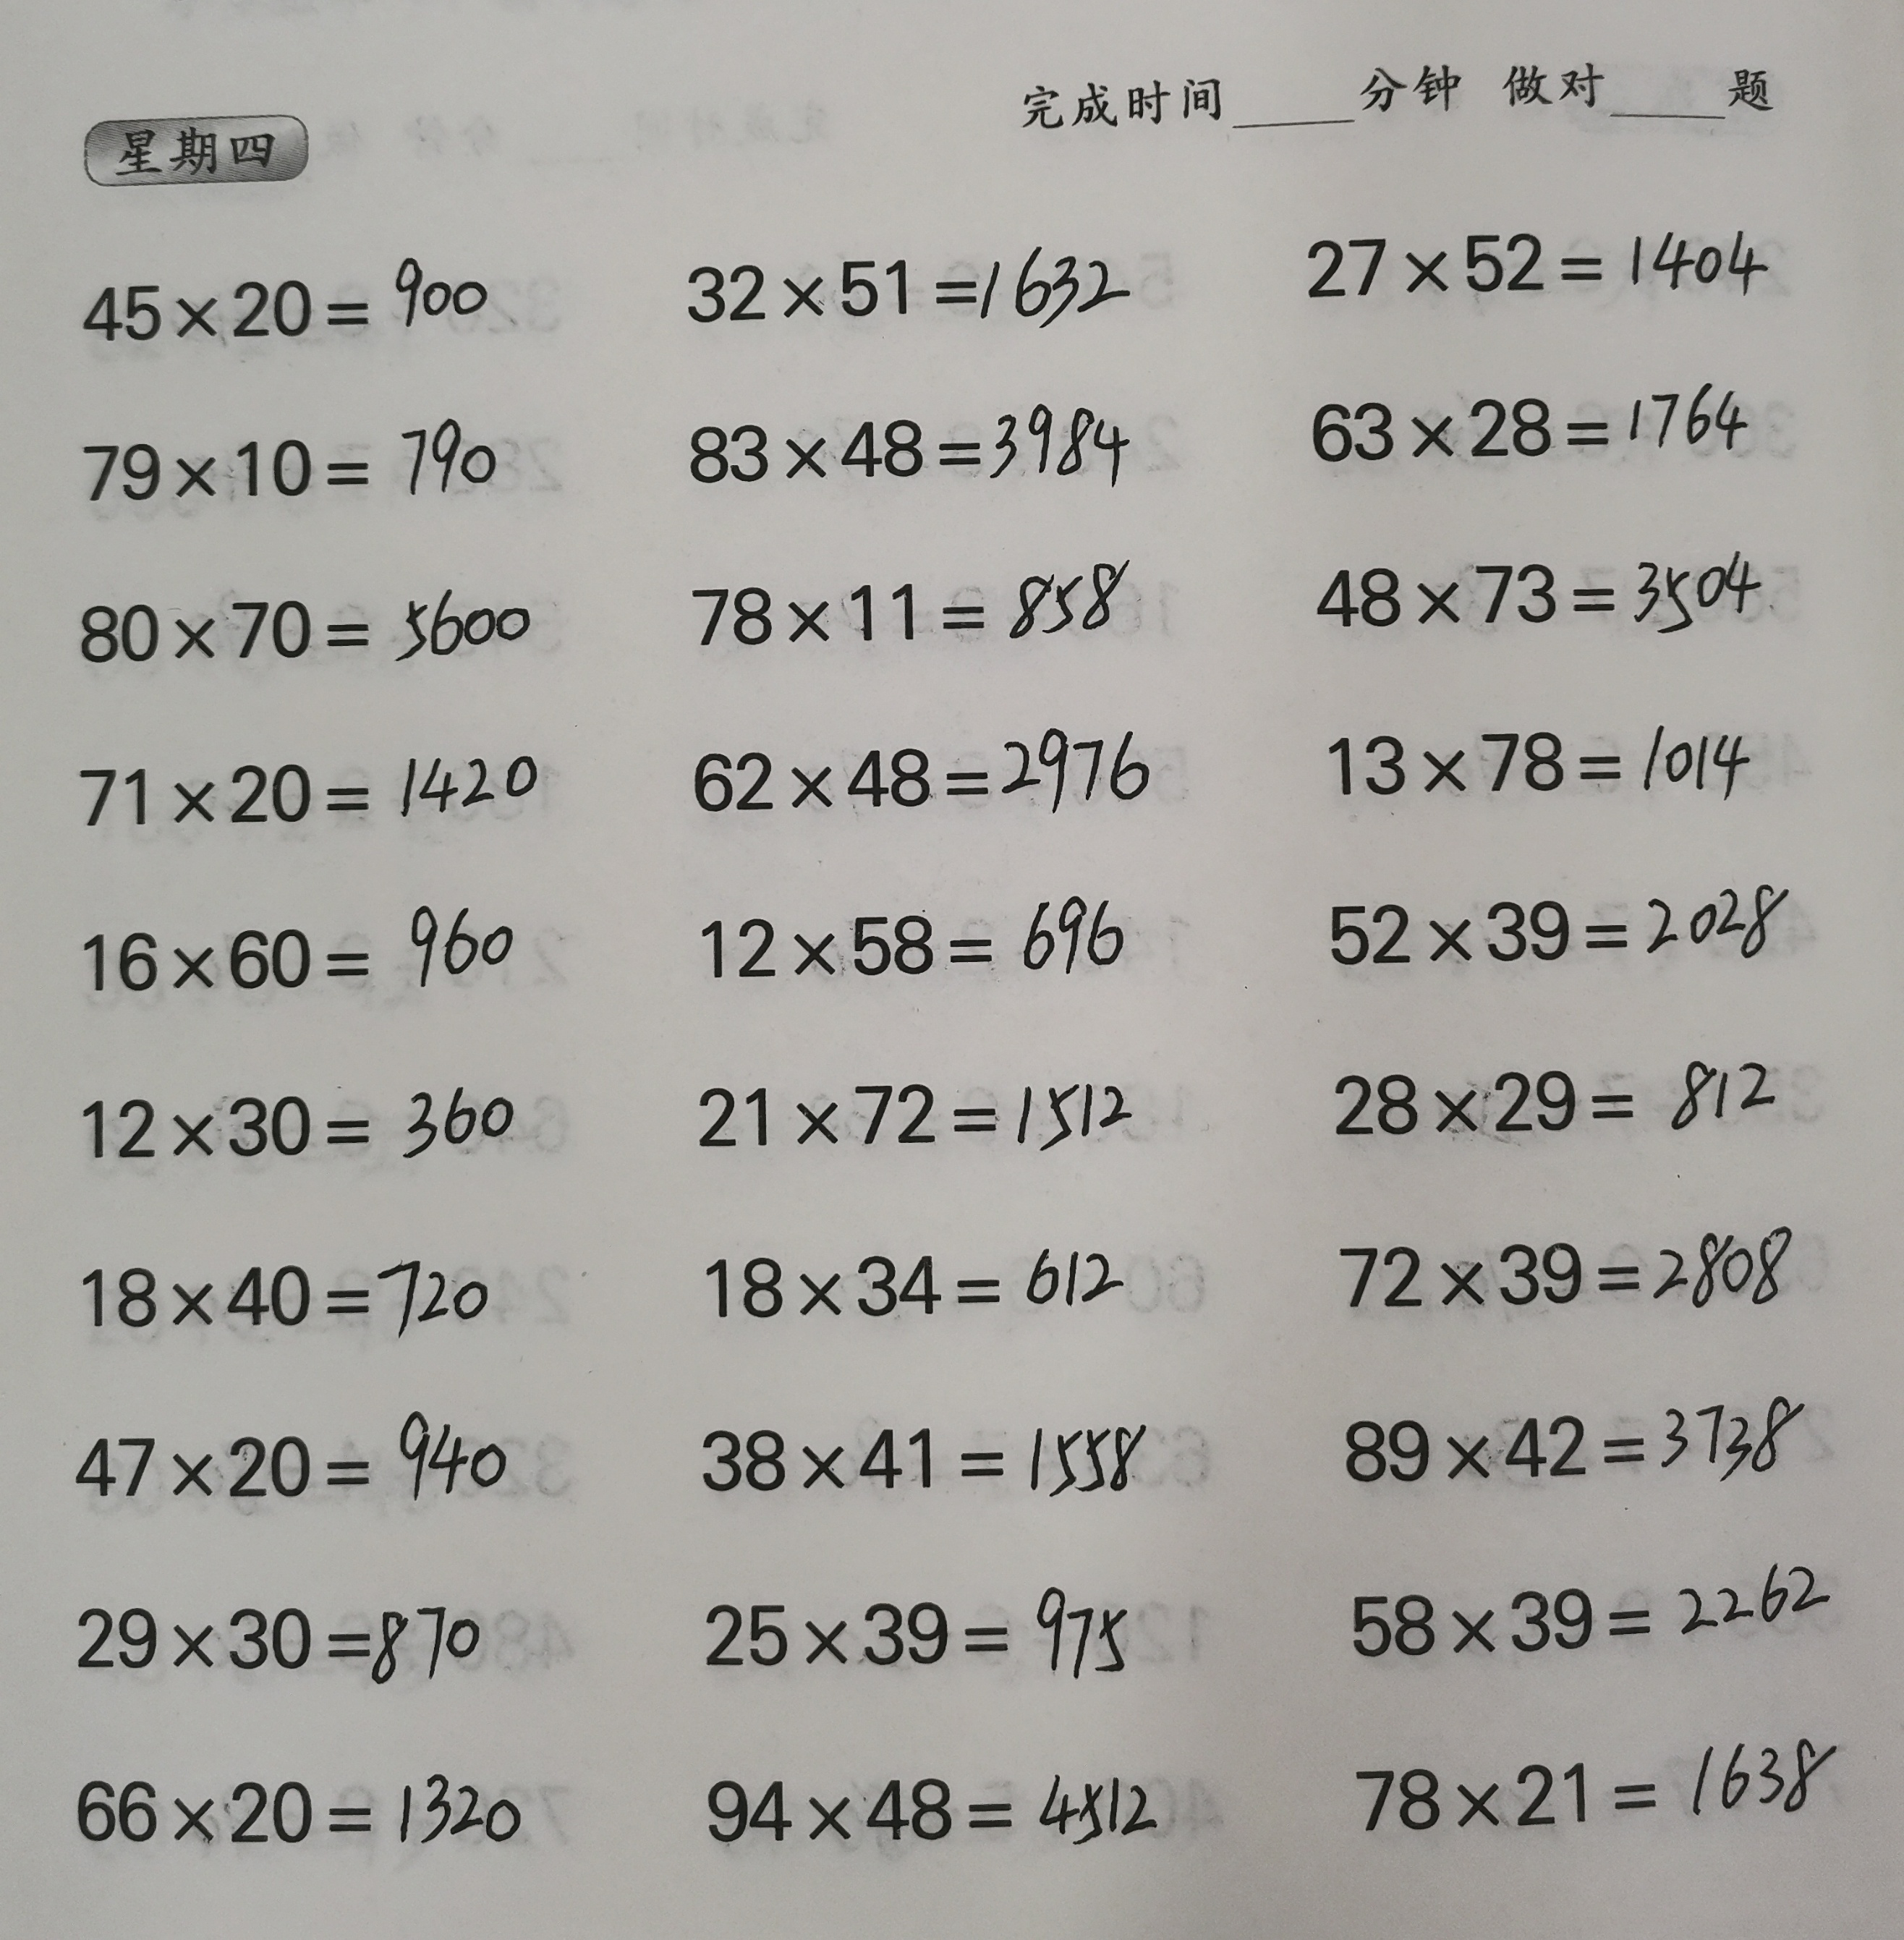equation: (1323, 1532, 1846, 1677), (1306, 1377, 1838, 1508), (1330, 1722, 1876, 1849), (670, 1382, 1184, 1508), (670, 702, 1172, 830), (1280, 354, 1778, 481), (689, 1555, 1159, 1686), (1304, 858, 1792, 983), (683, 1738, 1191, 1858), (683, 1037, 1163, 1163), (666, 539, 1159, 659), (56, 878, 535, 1002), (1322, 687, 1780, 816), (63, 1391, 527, 1518), (685, 1206, 1142, 1335), (68, 1743, 556, 1863), (1316, 1210, 1819, 1326), (54, 1065, 546, 1184), (671, 371, 1151, 492), (675, 211, 1140, 335), (1289, 200, 1787, 315), (71, 392, 535, 514), (1309, 1035, 1806, 1149), (56, 1238, 525, 1354), (54, 1581, 516, 1698), (52, 730, 565, 835), (42, 579, 574, 678), (1301, 544, 1801, 648), (65, 235, 506, 354), (687, 878, 1142, 988)
